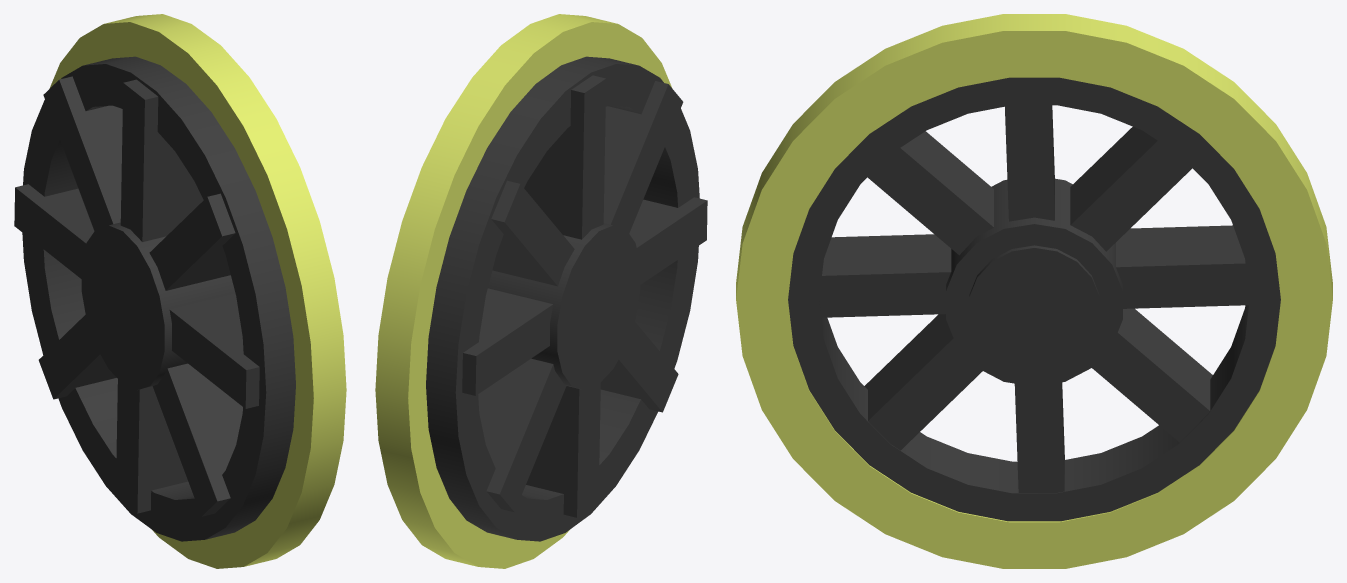
Rendered from Loc_r7.fbx.
3 renders of one model, left to right at view 1: azimuth 30°, elevation 25°; view 2: azimuth 150°, elevation 25°; view 3: azimuth 270°, elevation 25°, orthographic. The views are drawn at different scales.
Visible parts, largest first — view 1: Tube010; view 2: Tube010; view 3: Tube010.
Boxes of the visible parts, bbox=[...] form: Tube010: bbox=[14, 14, 346, 568]; Tube010: bbox=[375, 14, 707, 568]; Tube010: bbox=[736, 14, 1332, 568].
Bounding box in the file's own units: 87.19 × 428 × 430.
